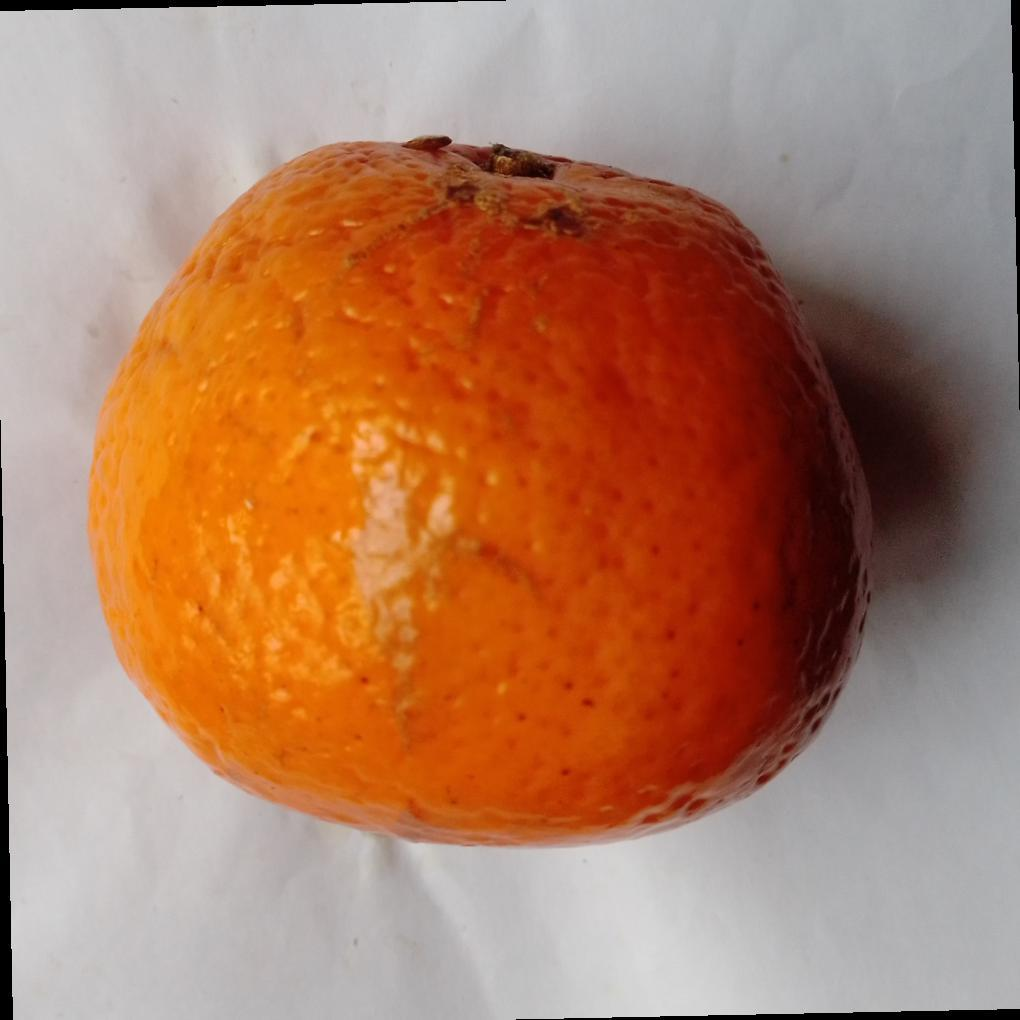FreshOrange: (84, 136, 876, 853)
